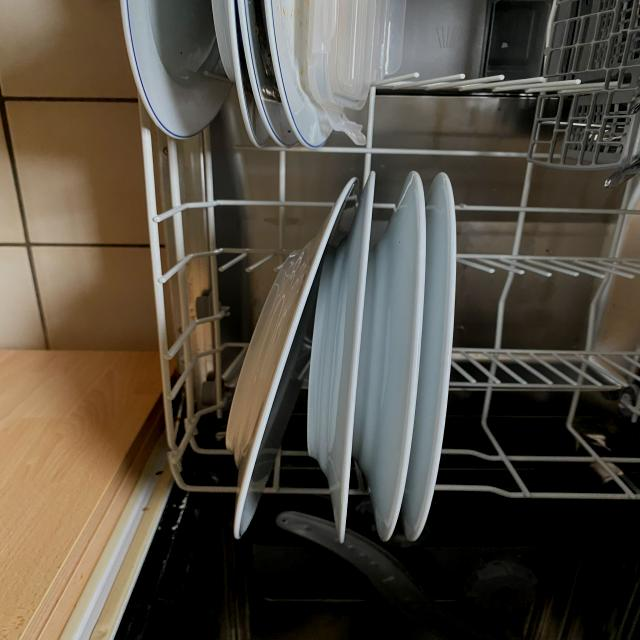empty_slot: (460, 191, 640, 487), (390, 0, 559, 137)
